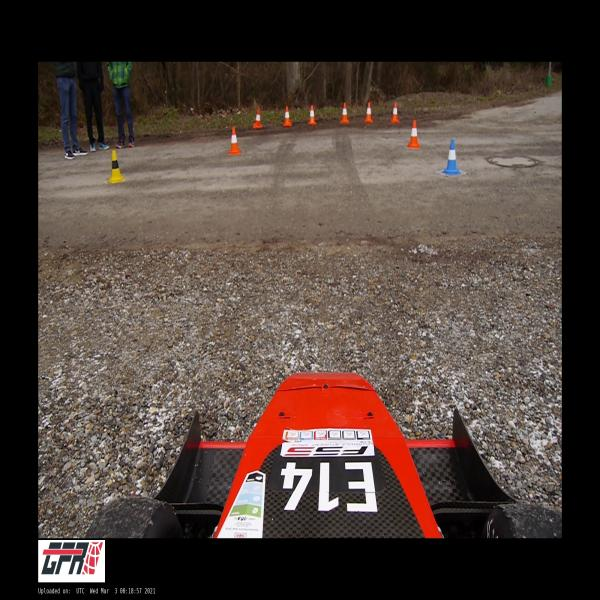blue_cone: (441, 140, 461, 175)
orange_cone: (407, 120, 420, 148), (229, 126, 241, 154), (253, 108, 262, 129), (364, 102, 373, 122), (391, 102, 399, 123), (284, 106, 292, 126), (341, 103, 349, 123), (308, 105, 316, 124)
yellow_cone: (108, 151, 125, 183)
